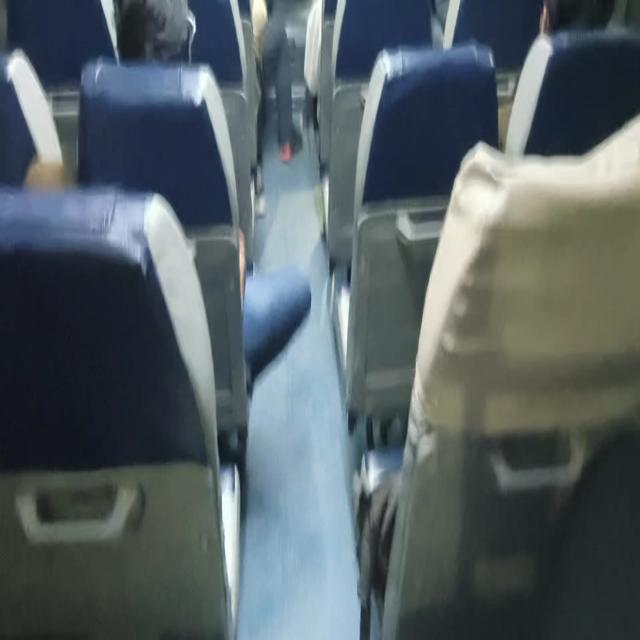person: (534, 0, 633, 43), (134, 0, 190, 72)
